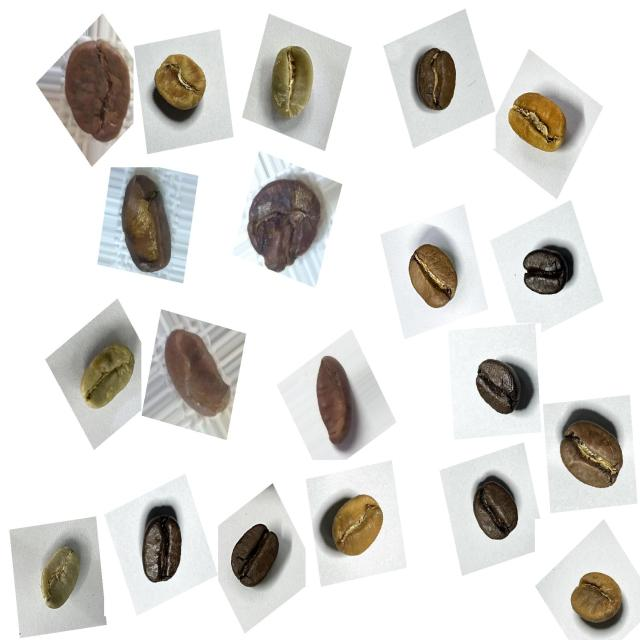bad: (239, 163, 329, 284), (158, 317, 238, 426), (54, 30, 126, 147), (112, 167, 182, 280), (306, 349, 368, 457)
dark: (126, 497, 195, 598), (224, 511, 294, 603), (461, 464, 528, 554), (466, 342, 536, 425), (514, 232, 582, 312)
green: (70, 326, 144, 421), (260, 31, 326, 129), (27, 534, 91, 624)
light: (500, 80, 582, 172), (315, 479, 394, 571), (143, 44, 218, 128), (560, 559, 634, 640)
medium: (550, 411, 633, 507), (395, 230, 469, 322), (406, 39, 469, 121)
